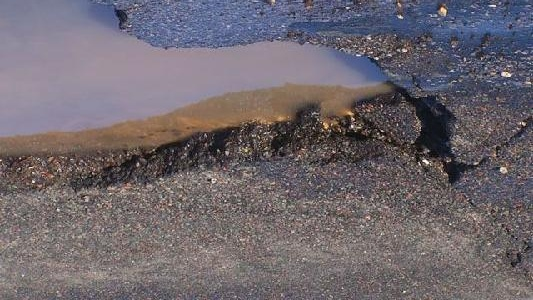pothole: (0, 0, 468, 200)
